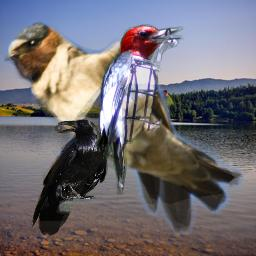Crow: (32, 119, 108, 237)
Swallow: (1, 20, 244, 234)
Woodpecker: (97, 24, 185, 195)
